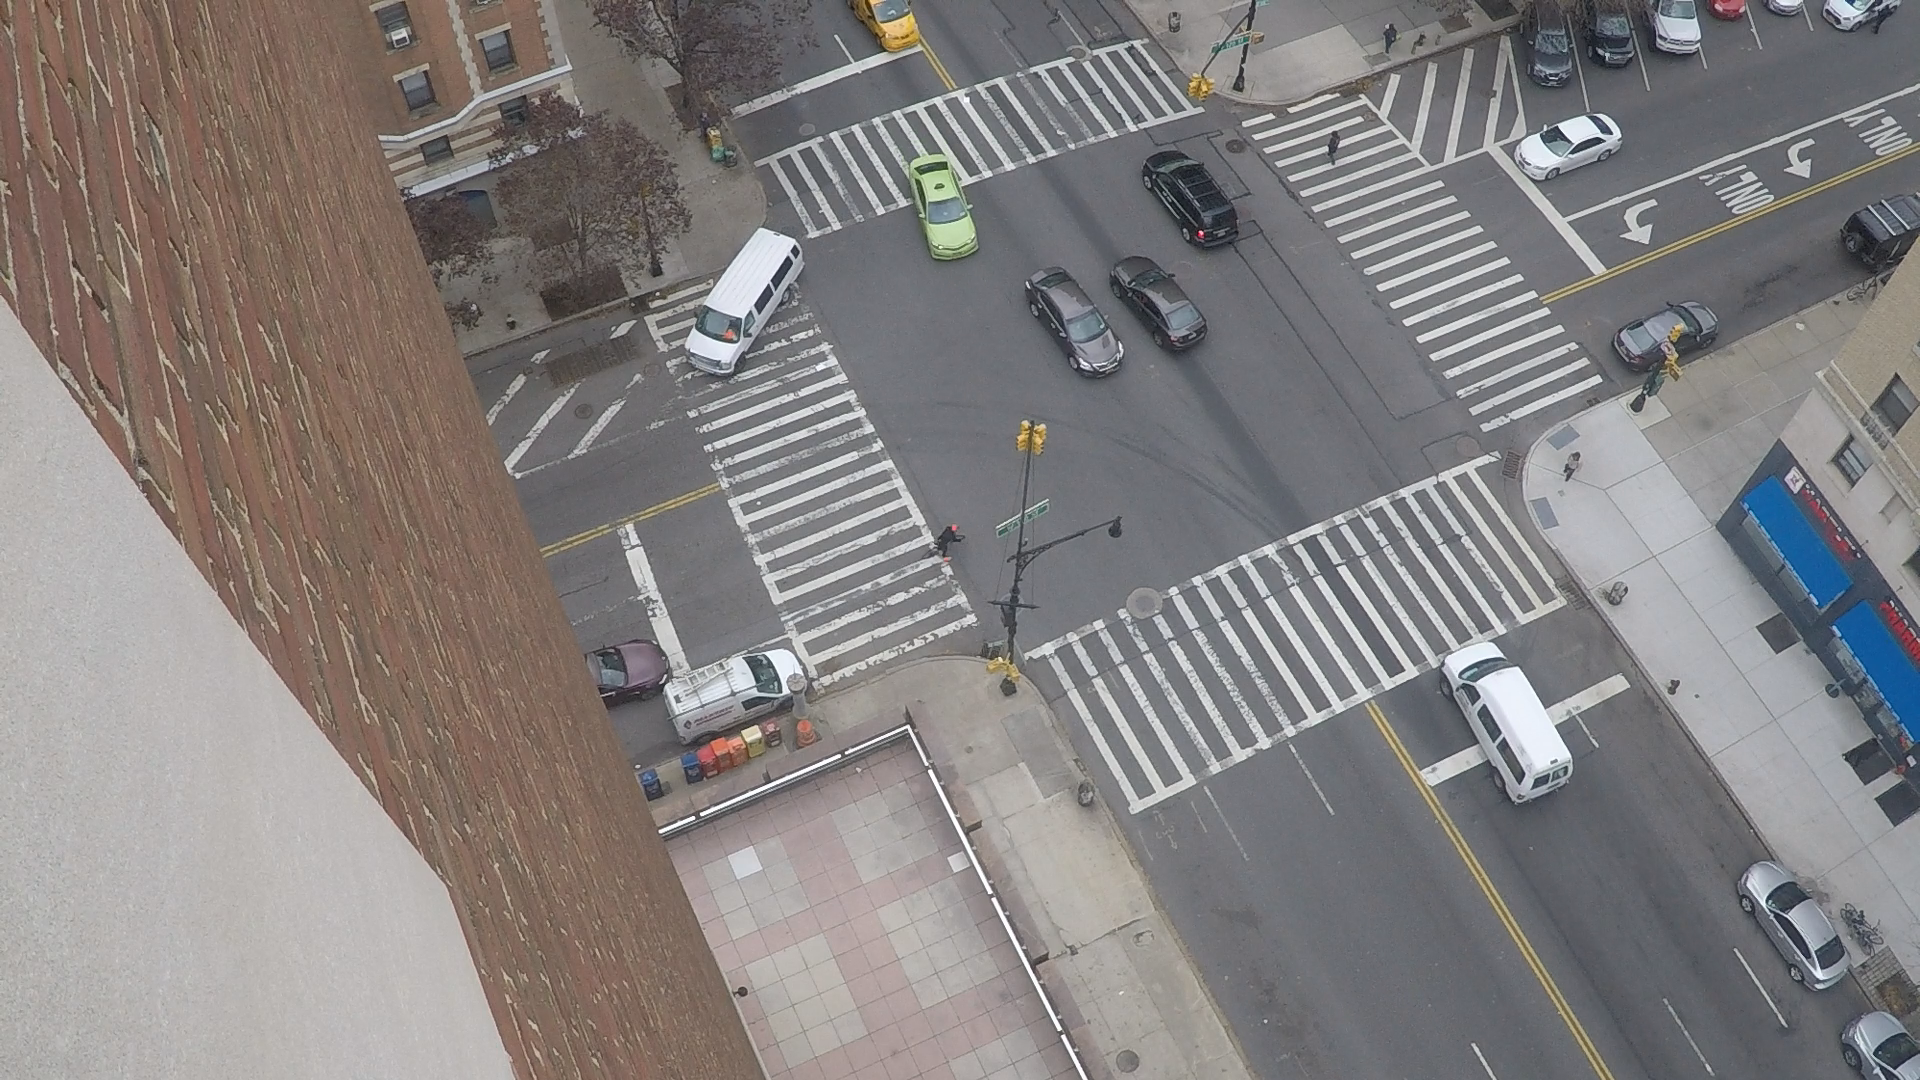Car: (960, 181, 968, 204), (907, 0, 913, 13), (1760, 0, 1764, 5), (1643, 0, 1644, 9), (1704, 0, 1705, 7)
